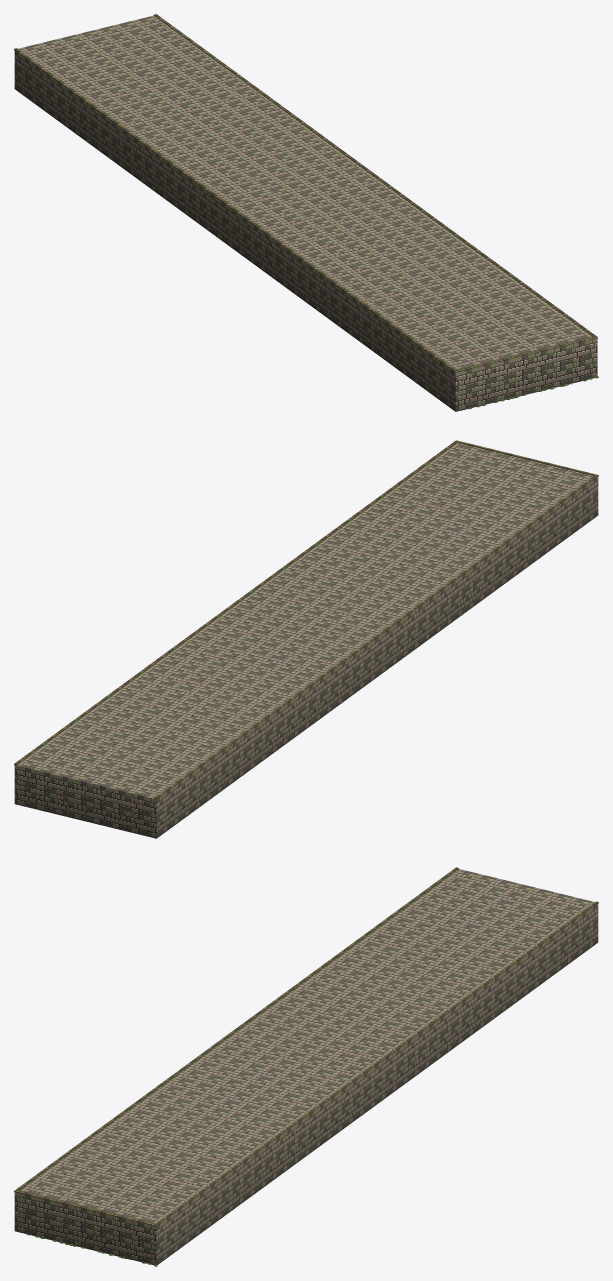
Rendered from scene_wall_e.glb.
3 views of the same model, one above another, from view 1: azimuth 30°, elevation 25°; view 2: azimuth 150°, elevation 25°; view 3: azimuth 330°, elevation 25° (orthographic).
Parts seen in each view (by area): view 1: scene_wall_e; view 2: scene_wall_e; view 3: scene_wall_e.
Part boxes in pixels (left/top/right/bottom): scene_wall_e: left=14, top=14, right=598, bottom=411; scene_wall_e: left=14, top=440, right=598, bottom=838; scene_wall_e: left=14, top=867, right=598, bottom=1266.
Size of the model in its own units: 18.2 by 4.97 by 97.24.
2 materials, 1 textured.
